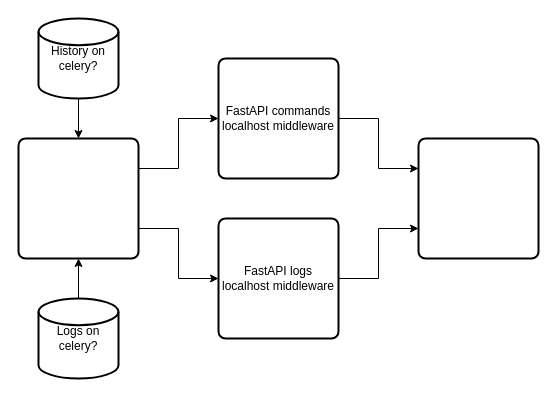
The diagram is 556 pixels wide and 396 high, and some of its shapes have lost their labels. The shapes that lost their labels are listed below. From the top down, each one's centre as x and y in pixels, then its label:
pixel 78 198: python adb commands lib
pixel 478 198: Electron front-end
